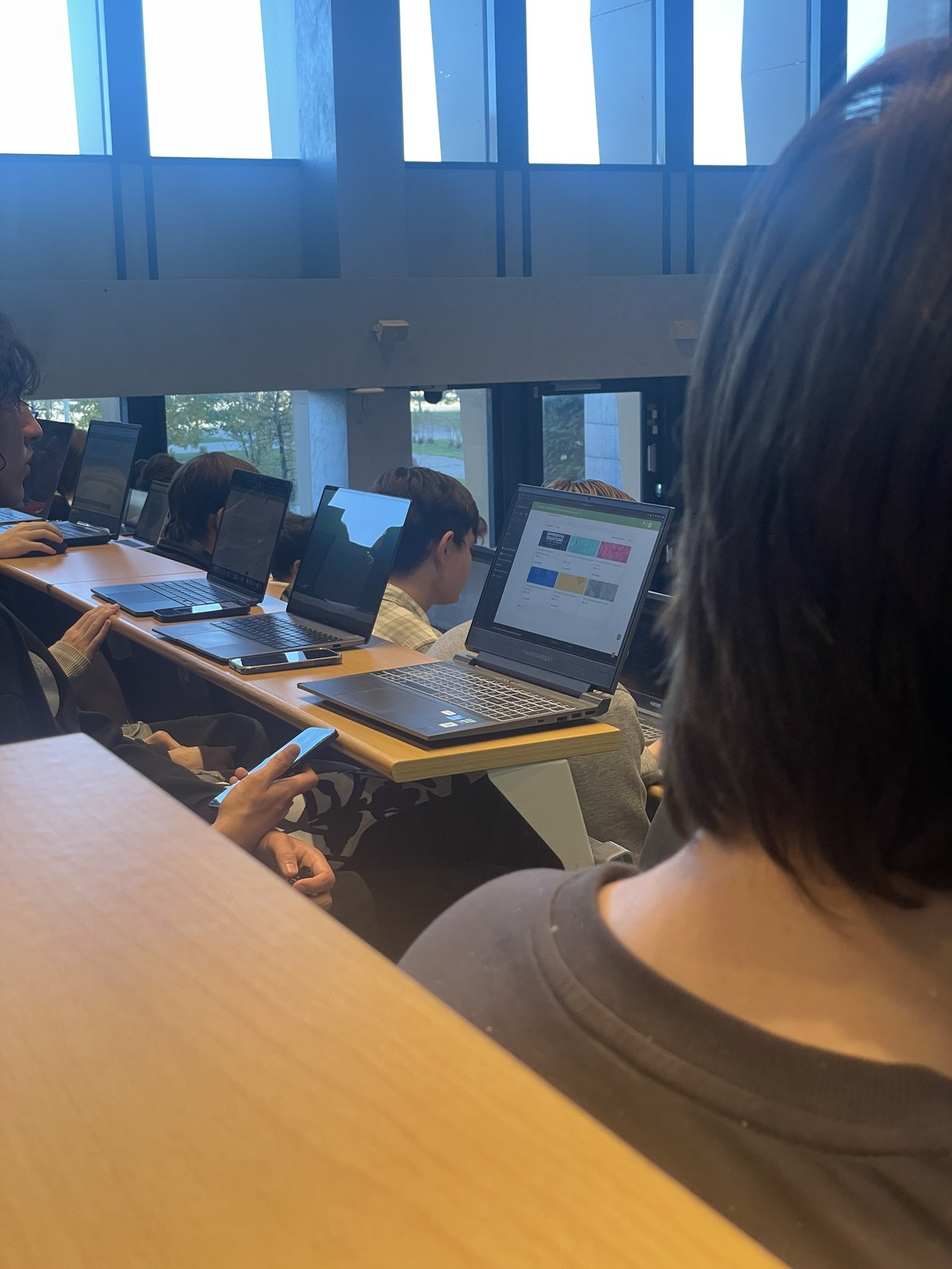cell phone: (211, 723, 339, 806), (230, 647, 342, 673), (153, 599, 249, 623)
laptop: (295, 485, 674, 741), (153, 483, 414, 665), (91, 469, 293, 616), (0, 419, 142, 544), (1, 418, 75, 522), (134, 477, 167, 549)
